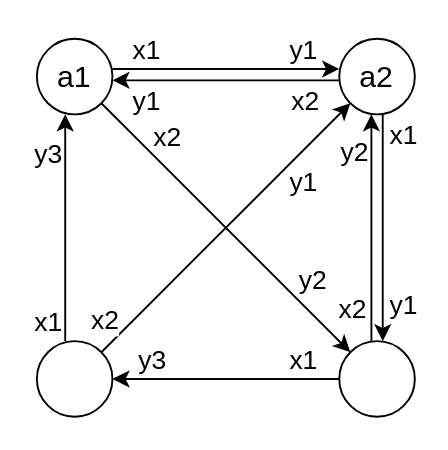
Some shapes in this 448 by 450 pixel diagram are drawn without their labels. Each missing label, with the box of its shape:
a3: (337, 339, 415, 417)
a4: (35, 339, 112, 417)
